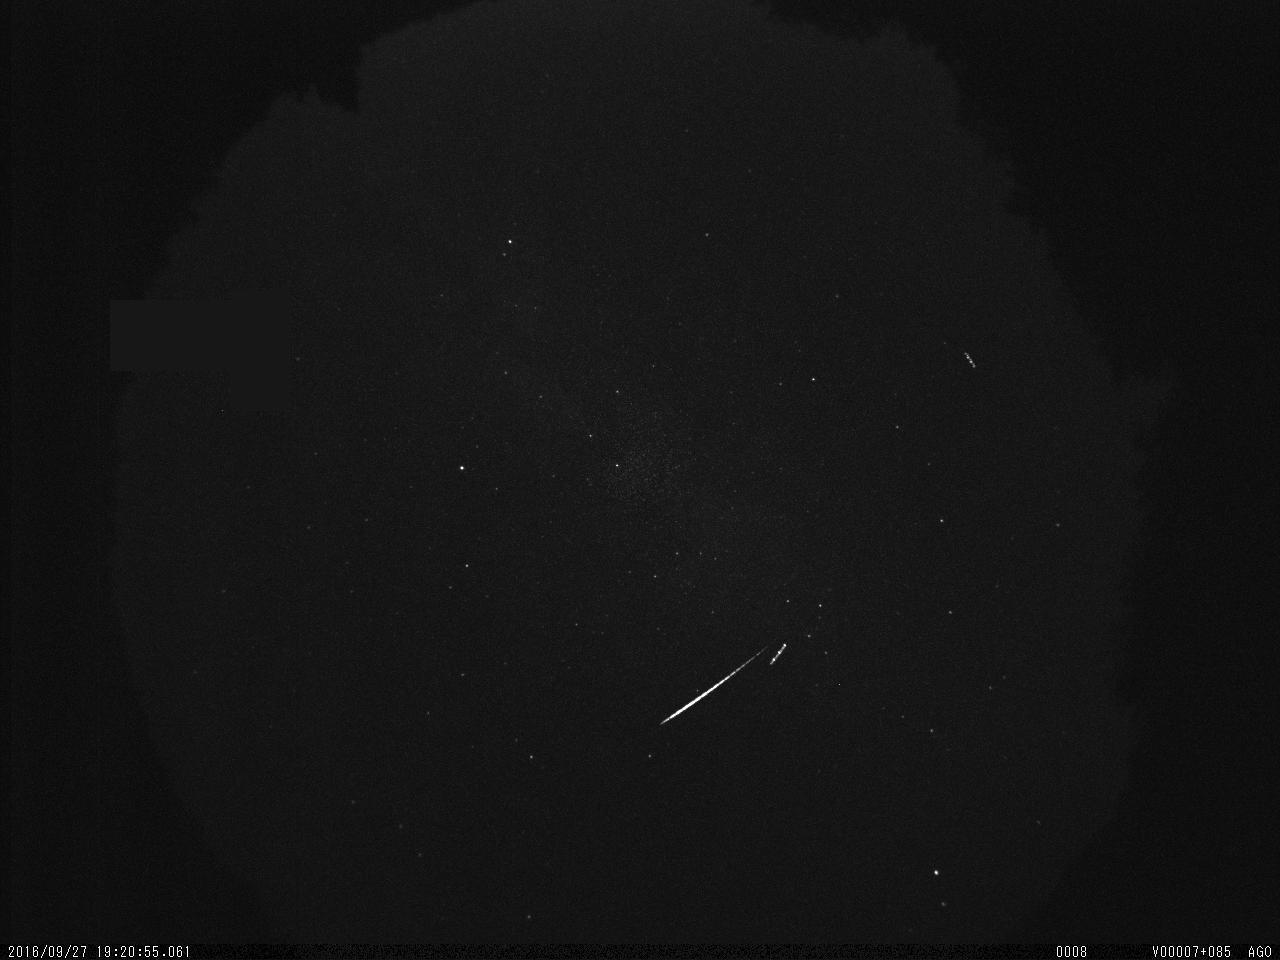meteor: (661, 625, 767, 732)
satelite: (957, 340, 981, 376), (769, 636, 795, 668)
